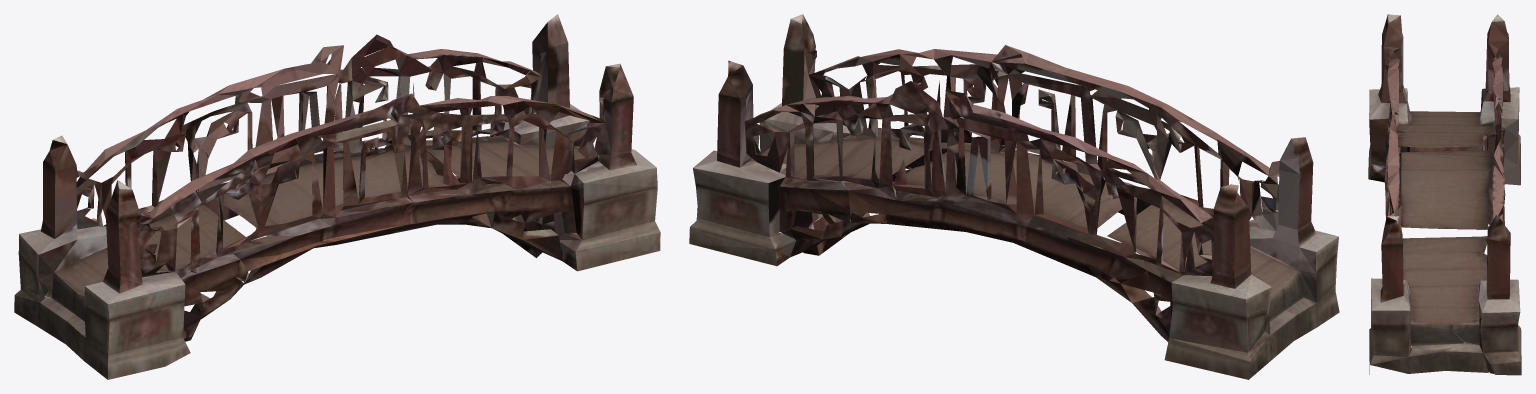
File: park_iron_bridge_1117.glb
3 views of the same model, side by side, from view 1: azimuth 30°, elevation 25°; view 2: azimuth 150°, elevation 25°; view 3: azimuth 270°, elevation 25° (orthographic). The views are drawn at different scales.
Visible parts, largest first — view 1: world; view 2: world; view 3: world.
Part boxes in pixels (x1,y1,x2,y2): world: (14, 14, 660, 379); world: (689, 14, 1339, 379); world: (1368, 14, 1521, 375).
Size of the model in its own units: 2.78 by 1 by 0.801.
Materials: 1 (1 with a texture image).
